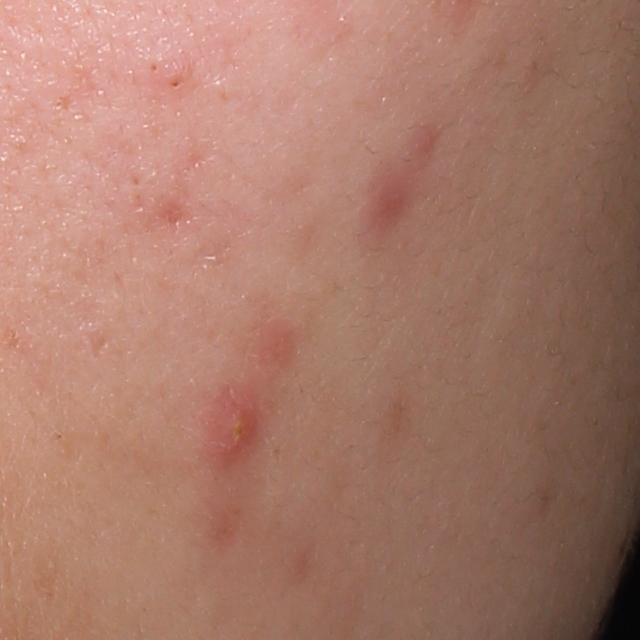atrophic_scar: (90, 329, 111, 365), (156, 199, 180, 230)
comedo: (166, 73, 187, 93), (146, 59, 162, 76)
papule: (208, 387, 265, 462)
